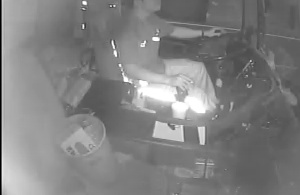paper: (152, 119, 206, 146)
